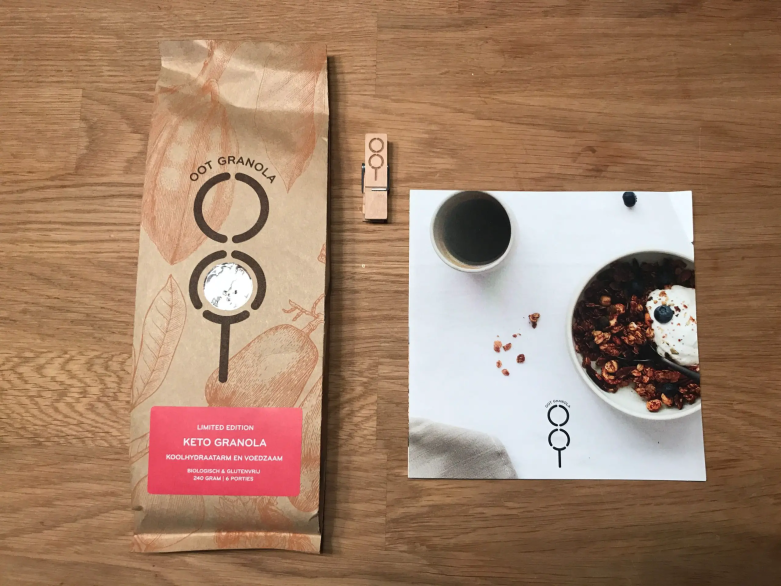KetoGranola: (144, 401, 311, 504)
